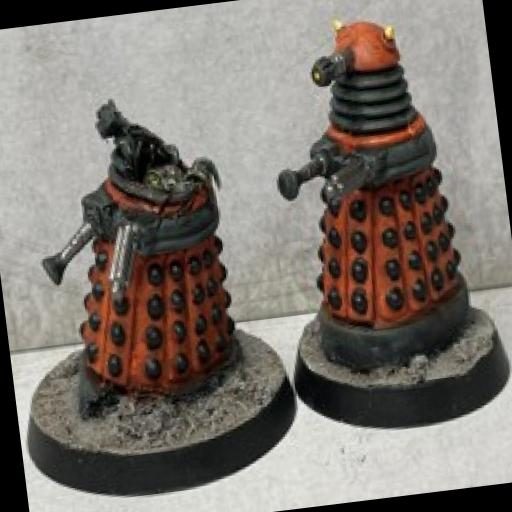dalek: (8, 85, 259, 425), (259, 0, 474, 374)
